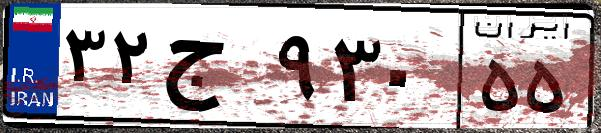0: (385, 28, 445, 110)
2: (110, 28, 158, 98)
3: (330, 28, 385, 110), (57, 26, 110, 100)
5: (475, 38, 525, 113), (525, 38, 570, 115)
9: (270, 28, 330, 110)
ج: (158, 20, 270, 120)
